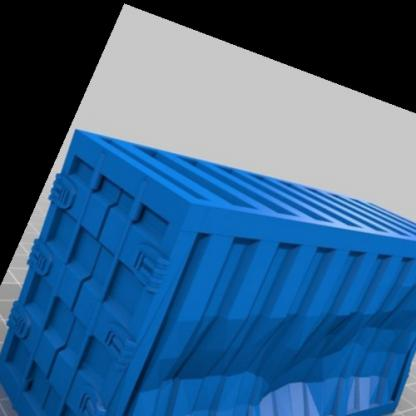Damage: (155, 306, 411, 379)
